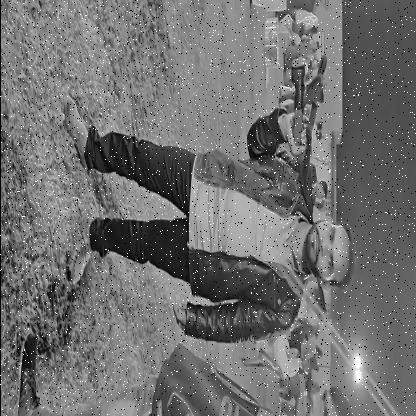rifle: (290, 54, 328, 320)
